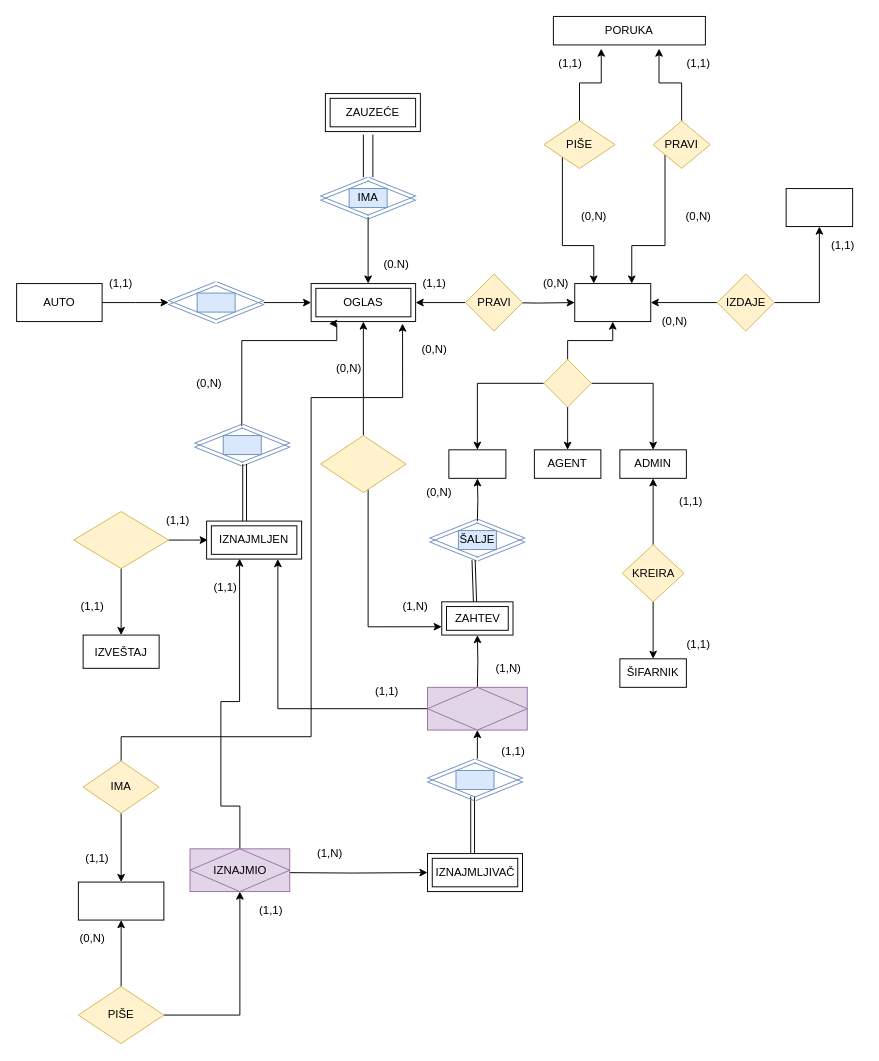
The diagram is 879 pixels wide and 1061 high, and some of its shapes have lost their labels. The shapes that lost their labels are listed below. From the top down, each one's centre as x and y in pixels, then its label:
At [819,207]: "CENOVNIK".
At [215,302]: "STOJI".
At [612,302]: "KORISNIK".
At [567,383]: "IS-A".
At [241,445]: "POSTAJE".
At [363,464]: "SADRŽI".
At [477,463]: "KRAJNJI".
At [121,540]: "FORMIRA SE".
At [477,708]: "ODOBRAVA SE".
At [474,779]: "KORISNIK JE".
At [120,900]: "RECENZIJA".
